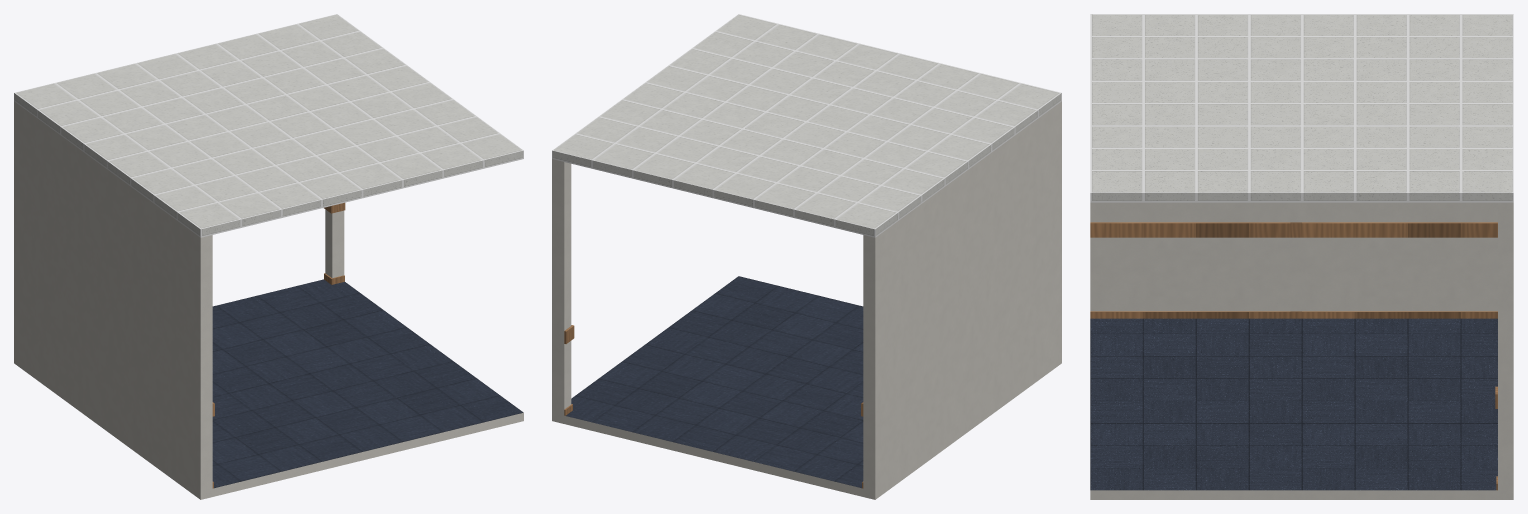
Rendered from Room_Office_OpeningCornerL.glb.
The picture shows the model from 3 angles, left to right: view 1: azimuth 30°, elevation 25°; view 2: azimuth 150°, elevation 25°; view 3: azimuth 270°, elevation 25°; orthographic projection. The views are drawn at different scales.
Parts seen in each view (by area): view 1: Room_Office_OpeningCornerL, Room_Office_OpeningCornerL_Ceiling; view 2: Room_Office_OpeningCornerL, Room_Office_OpeningCornerL_Ceiling; view 3: Room_Office_OpeningCornerL, Room_Office_OpeningCornerL_Ceiling.
Part boxes in pixels (x1,y1,x2,y2): Room_Office_OpeningCornerL: (14,101,523,499); Room_Office_OpeningCornerL_Ceiling: (14,14,523,237); Room_Office_OpeningCornerL: (552,101,1061,499); Room_Office_OpeningCornerL_Ceiling: (552,14,1061,237); Room_Office_OpeningCornerL: (1090,202,1513,499); Room_Office_OpeningCornerL_Ceiling: (1090,14,1513,202).
Size of the model in its own units: 4 by 3.2 by 4.
6 materials, 4 textured.
